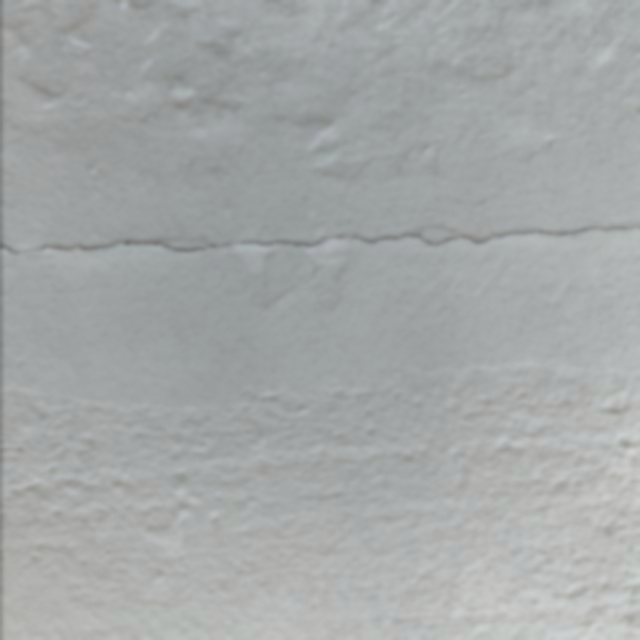SurfaceCrack: (1, 177, 640, 298)
